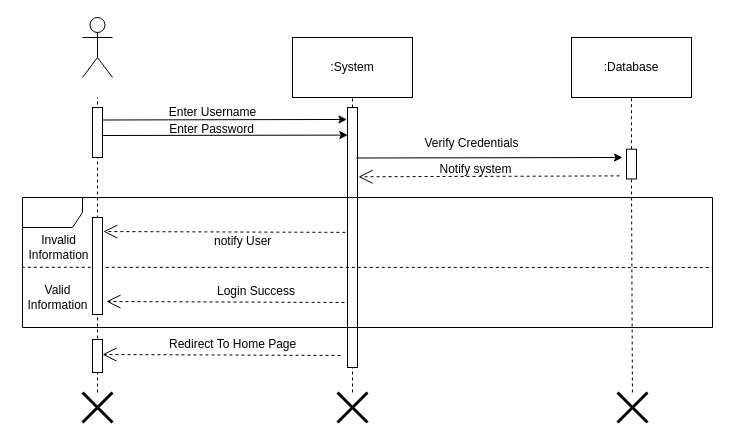
Image size: 731x441. Some labels were removed from this diagram. Each missing label, with the box of its shape:
Alt: (22, 196, 712, 328)
User: (82, 16, 112, 78)
